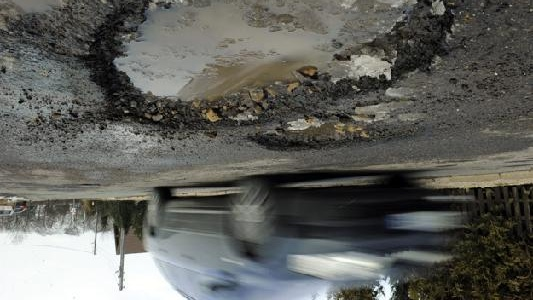pothole: (80, 0, 463, 136), (246, 112, 421, 154)
